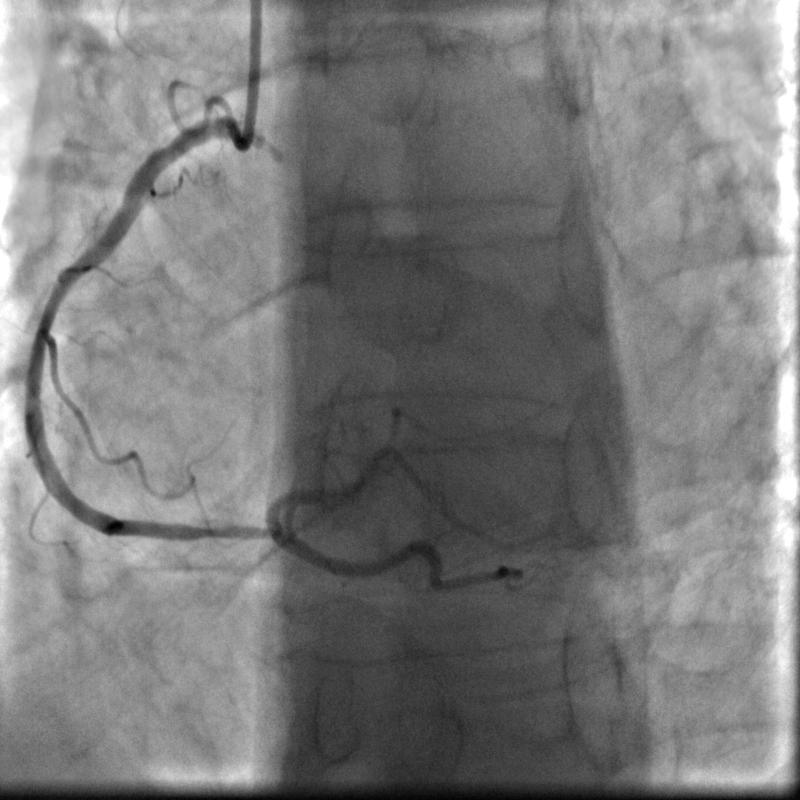Stenosis: (136, 508, 277, 557)
